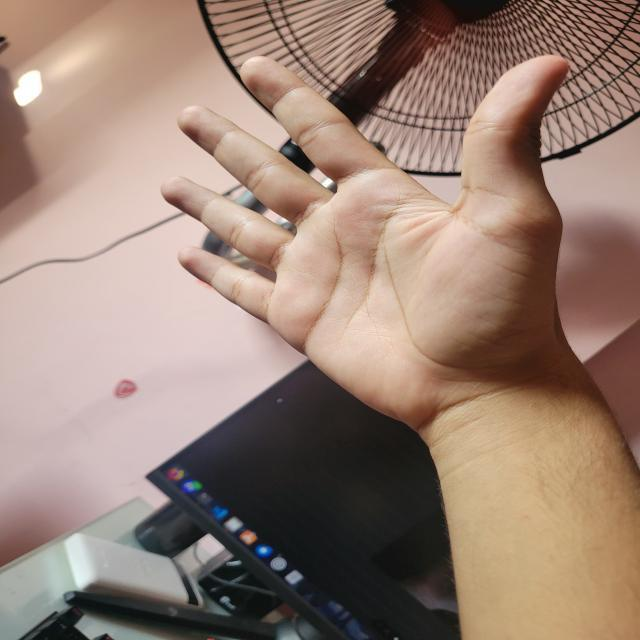Open Hand: (160, 52, 572, 430)
